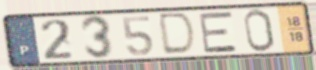0: (242, 7, 277, 54)
2: (39, 18, 75, 61)
3: (79, 13, 115, 62)
5: (120, 14, 155, 57)
D: (158, 11, 199, 57)
E: (197, 10, 241, 55)
